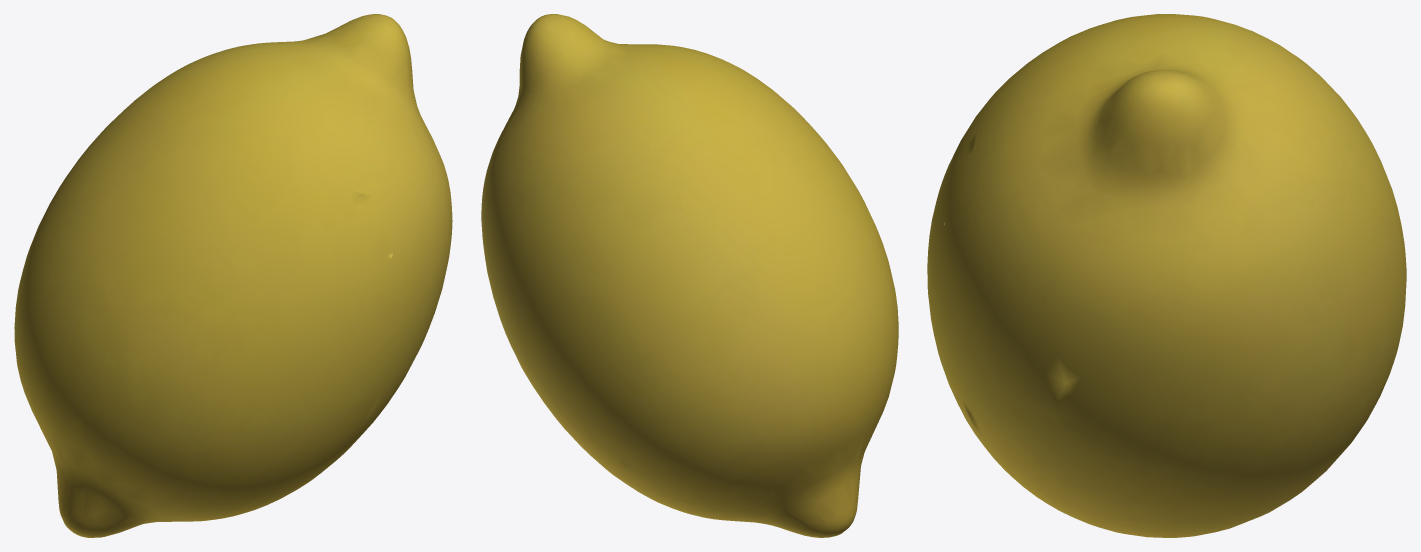
The model's file is lemon.glb.
3 renders of one model, left to right at view 1: azimuth 30°, elevation 25°; view 2: azimuth 150°, elevation 25°; view 3: azimuth 270°, elevation 25°, orthographic. The views are drawn at different scales.
Parts seen in each view (by area): view 1: material; view 2: material; view 3: material.
Boxes of the visible parts, bbox=[...] form: material: bbox=[14, 14, 452, 537]; material: bbox=[481, 14, 898, 537]; material: bbox=[927, 14, 1406, 537].
Bounding box in the file's own units: 0.8723 × 0.9838 × 0.7655.
1 material, 1 textured.
